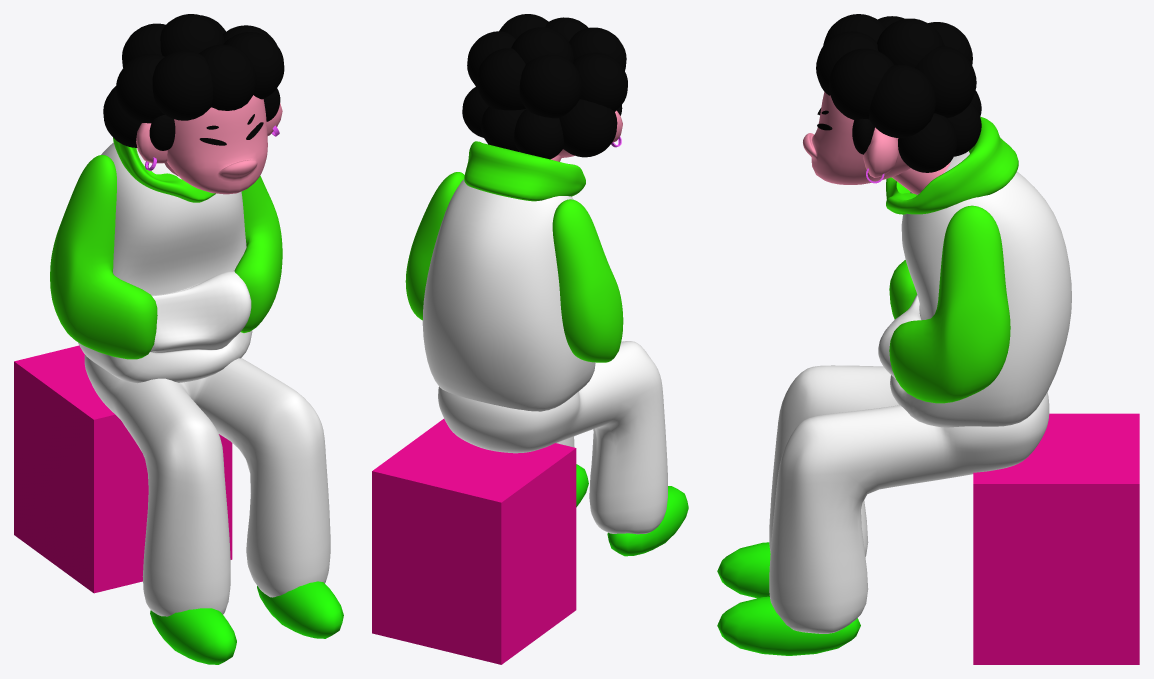
The picture shows the model from 3 angles, left to right: view 1: azimuth 30°, elevation 25°; view 2: azimuth 150°, elevation 25°; view 3: azimuth 270°, elevation 25°; orthographic projection. The views are drawn at different scales.
Visible parts, largest first — view 1: pCube10, pCube9, pCube7, pCube11, hair, pCube1, pCube13, pCube12, pCube8; view 2: pCube9, pCube7, pCube10, hair, pCube11, pCube8, pCube13; view 3: pCube9, pCube10, pCube7, hair, pCube11, pCube1, pCube8, pCube12, pCube13.
Boxes of the visible parts, box(x1,y1,x2,y2) form: pCube10: box(84, 355, 330, 616); pCube9: box(14, 345, 232, 593); pCube7: box(78, 142, 252, 383); pCube11: box(50, 155, 282, 359); hair: box(103, 14, 284, 150); pCube1: box(136, 95, 282, 194); pCube13: box(150, 608, 236, 664); pCube12: box(257, 581, 343, 638); pCube8: box(113, 137, 215, 202); pCube9: box(372, 419, 576, 664); pCube7: box(422, 179, 595, 411); pCube10: box(438, 341, 667, 534); hair: box(462, 14, 627, 159); pCube11: box(405, 172, 623, 362); pCube8: box(464, 141, 585, 201); pCube13: box(607, 486, 688, 556); pCube9: box(973, 413, 1139, 664); pCube10: box(769, 365, 1049, 633); pCube7: box(878, 151, 1071, 427); hair: box(816, 14, 981, 172); pCube11: box(889, 205, 1010, 403); pCube1: box(803, 92, 950, 194); pCube8: box(886, 117, 1018, 214); pCube12: box(717, 596, 860, 655); pCube13: box(717, 542, 770, 598).
Bounding box in the file's own units: 0.4732 × 1.21 × 0.7618.
